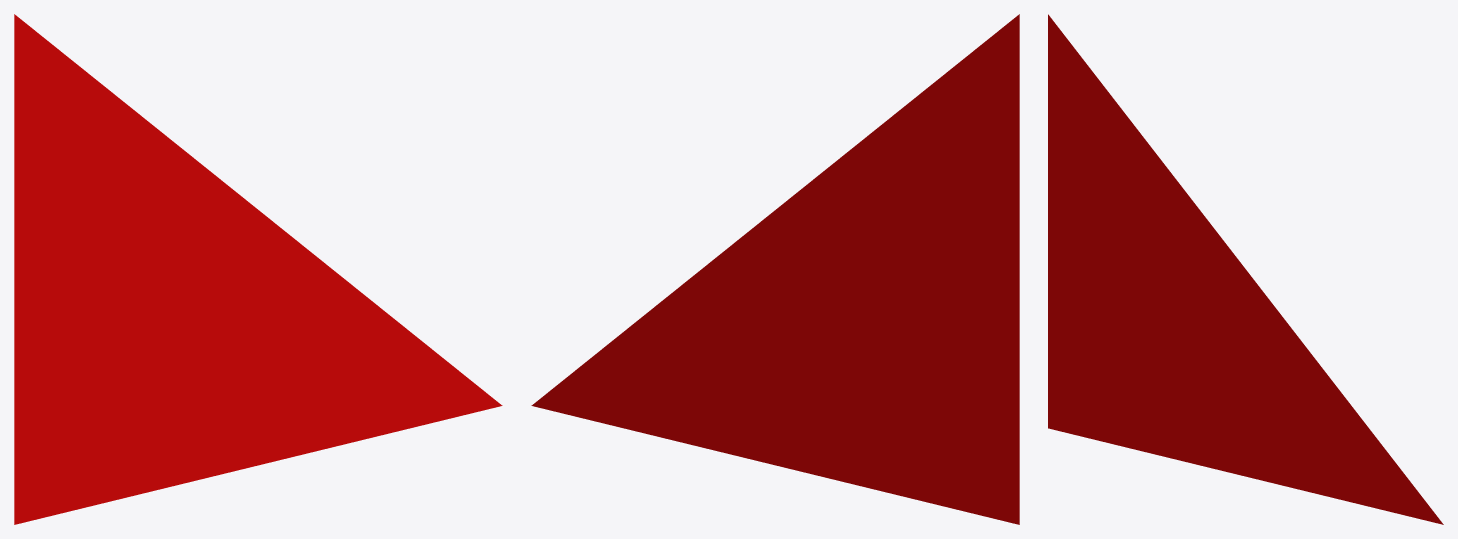
Rendered from rce_secondary_oob270.glb.
The picture shows the model from 3 angles, left to right: view 1: azimuth 30°, elevation 25°; view 2: azimuth 150°, elevation 25°; view 3: azimuth 330°, elevation 25°; orthographic projection. The views are drawn at different scales.
Size of the model in its own units: 1 by 1 by 0.
